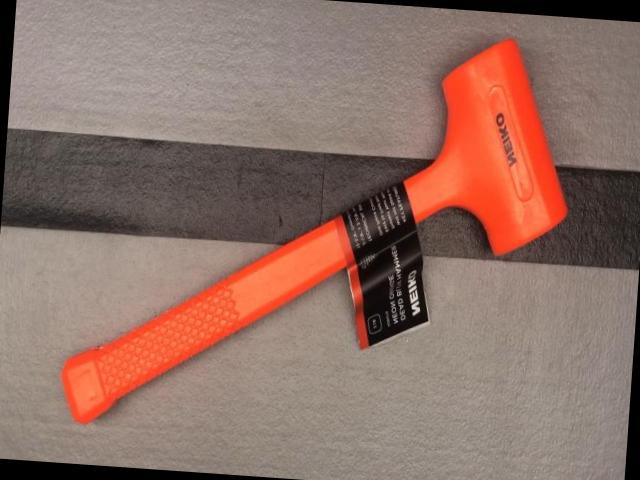hammer: (57, 8, 580, 456)
